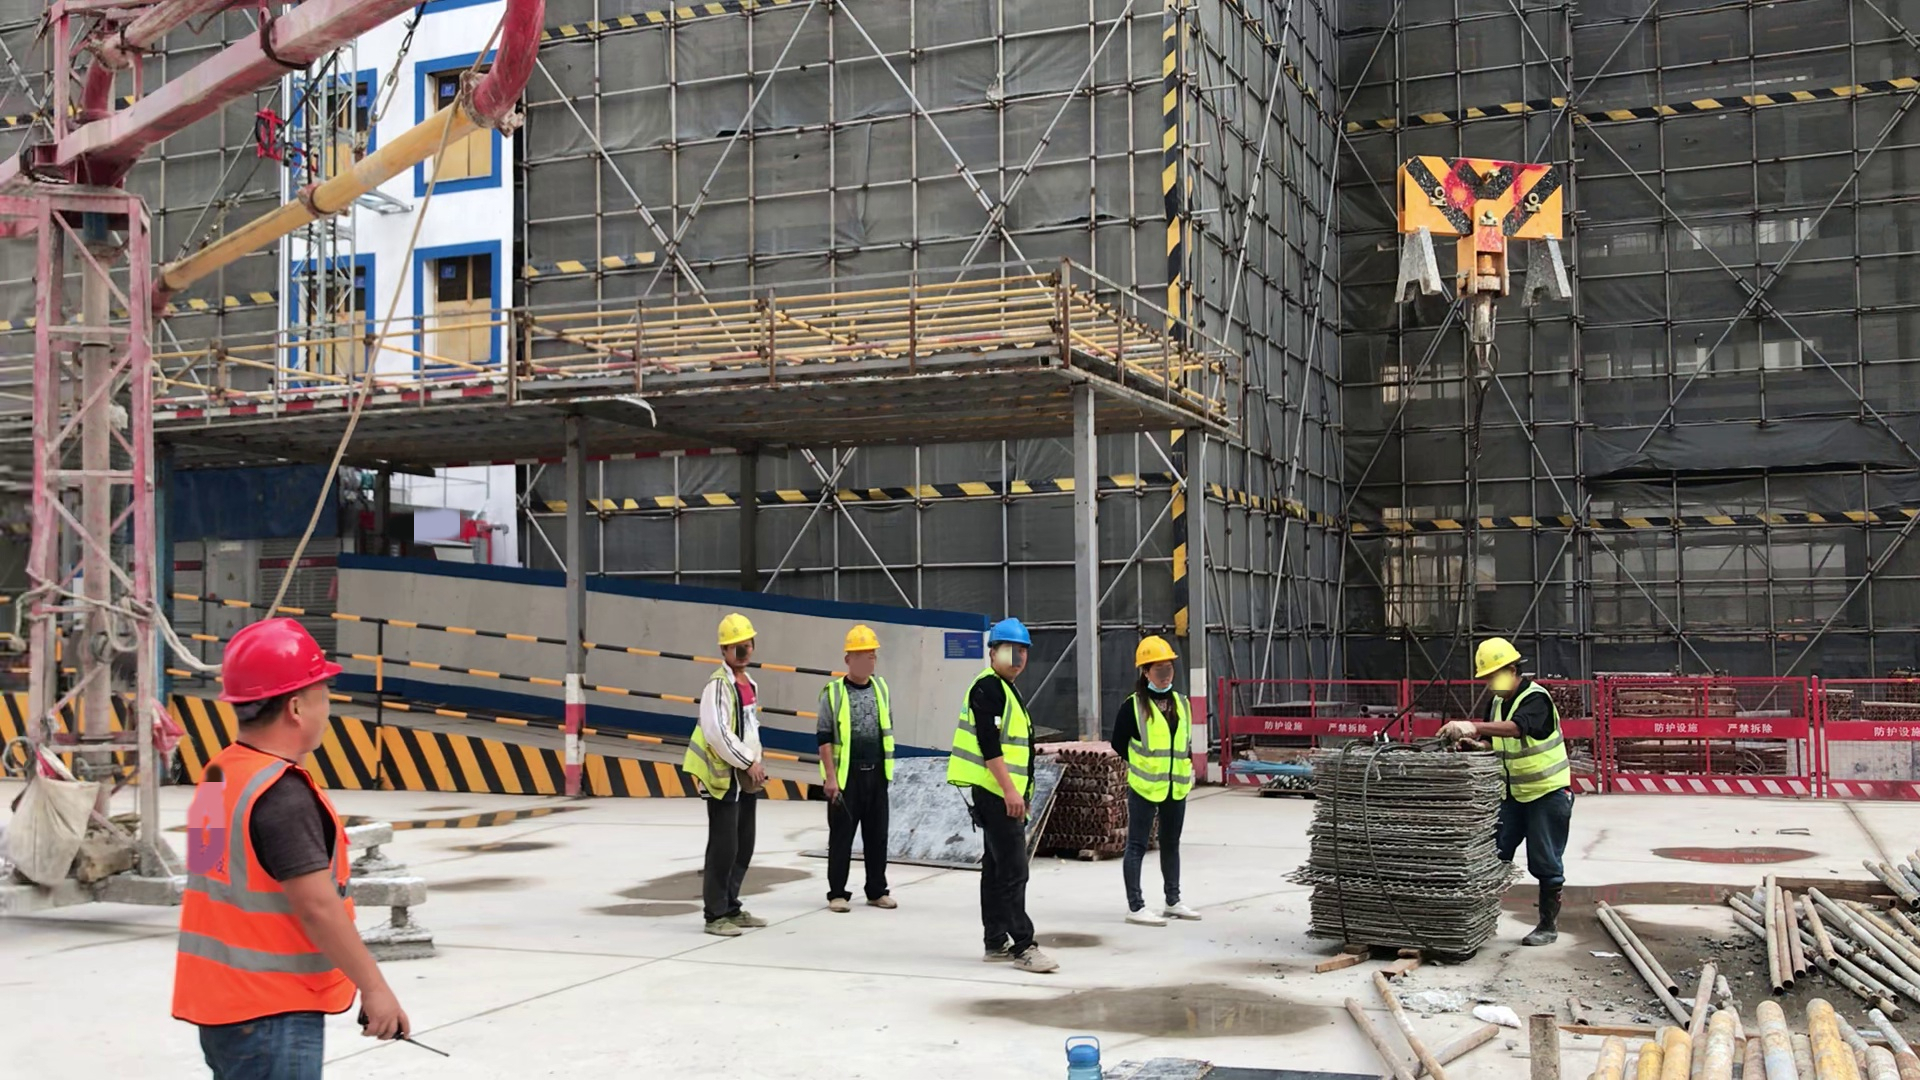helmet: (217, 616, 349, 714), (1469, 639, 1523, 676), (710, 614, 758, 649), (1131, 634, 1175, 671), (981, 617, 1033, 647), (838, 625, 880, 656)
person: (168, 613, 447, 1080), (943, 613, 1069, 977), (1437, 634, 1581, 951), (681, 608, 774, 940), (1109, 632, 1209, 929), (813, 621, 907, 911)
vest: (164, 741, 392, 1040), (940, 673, 1036, 810), (675, 658, 765, 804), (815, 669, 905, 804), (1482, 682, 1575, 801), (1117, 684, 1201, 806)
